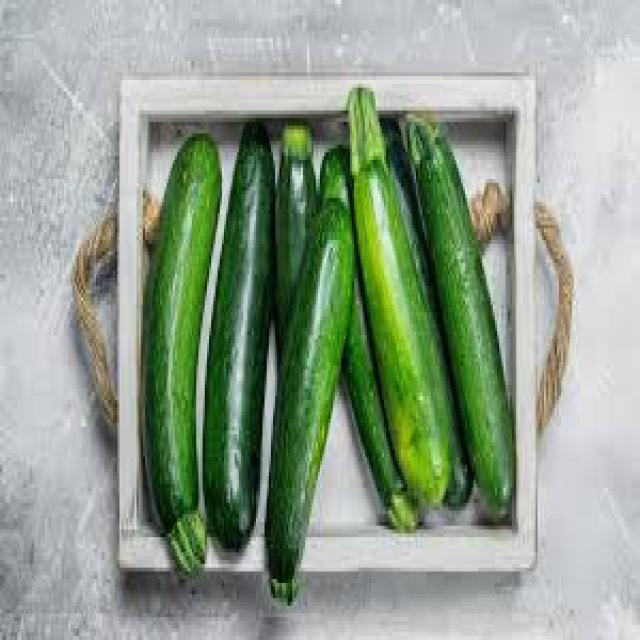Zucchini: (208, 119, 272, 560), (155, 132, 212, 582)
